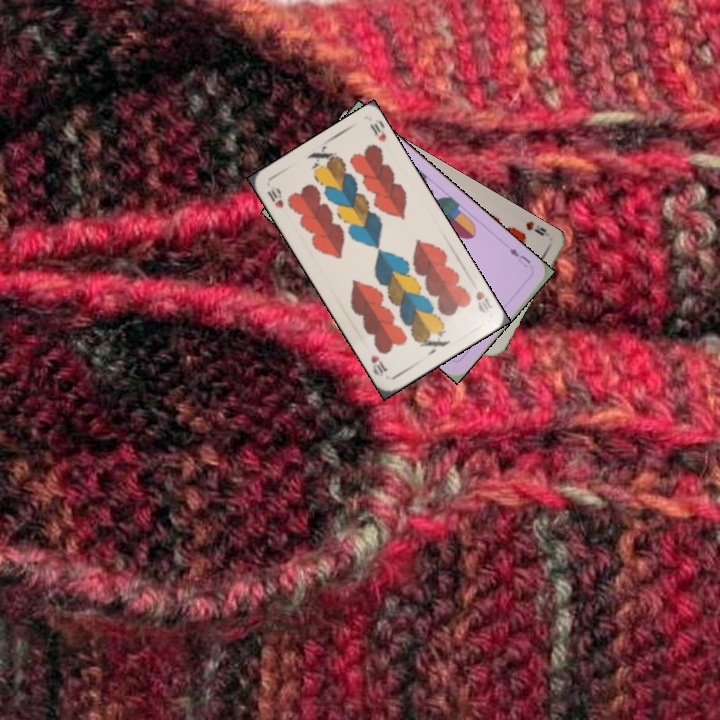EU: (505, 244, 534, 270)
H10: (471, 287, 495, 316), (263, 182, 286, 210)
H9: (522, 217, 549, 238)
